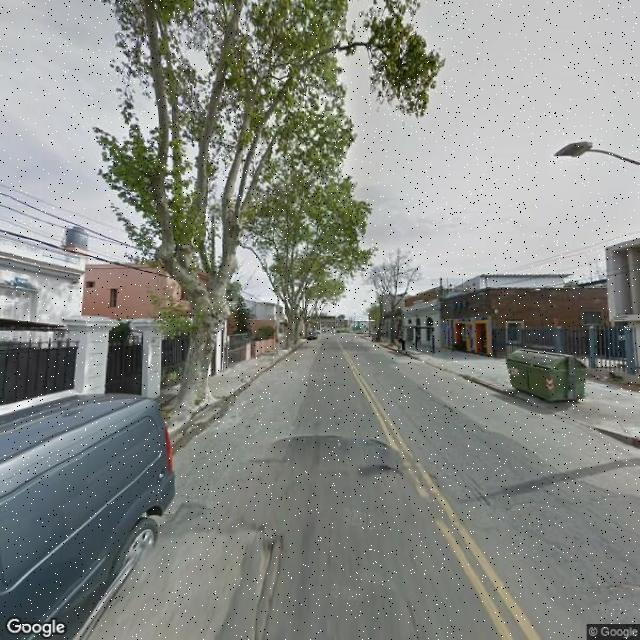garbage container: (498, 341, 594, 414)
